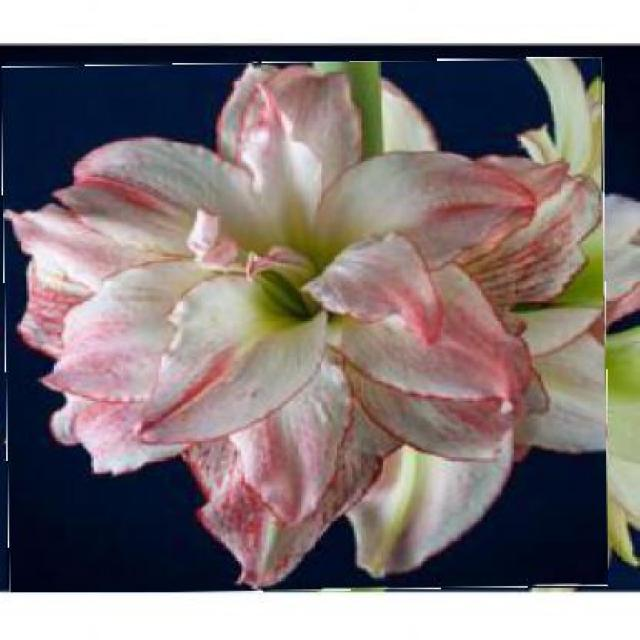Flower: (4, 59, 608, 592)
